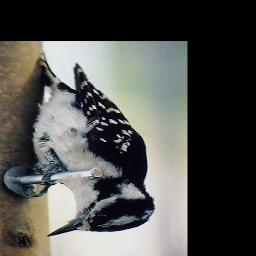Woodpecker: (24, 52, 156, 237)
